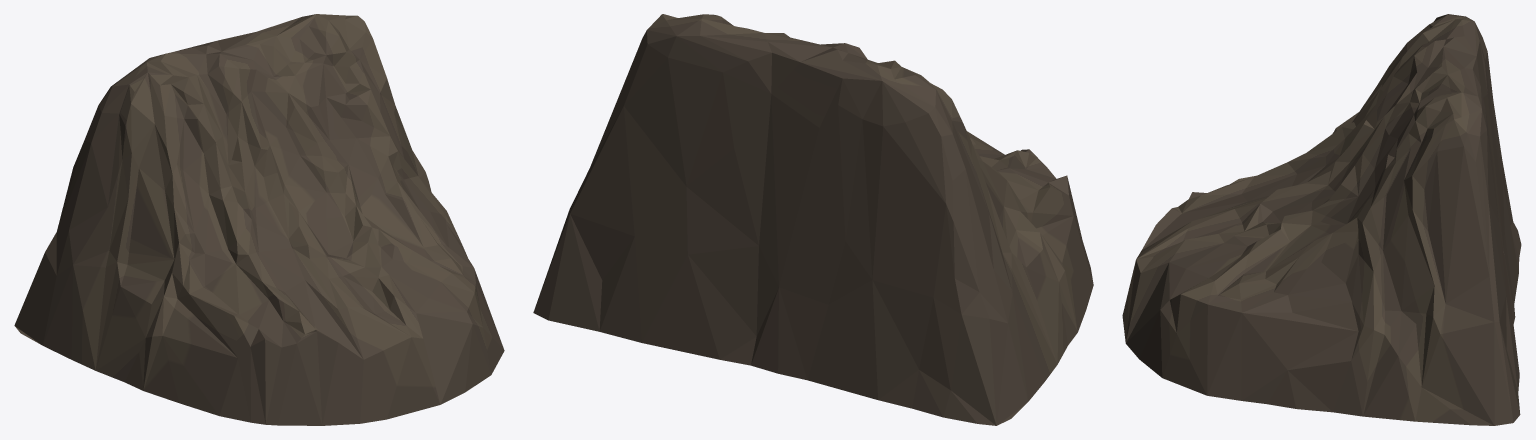
The model's file is crypt_landslide.gltf.
3 views of the same model, side by side, from view 1: azimuth 30°, elevation 25°; view 2: azimuth 150°, elevation 25°; view 3: azimuth 270°, elevation 25° (orthographic). The views are drawn at different scales.
Parts seen in each view (by area): view 1: crypt_landslide; view 2: crypt_landslide; view 3: crypt_landslide.
Part boxes in pixels (x1,y1,x2,y2): crypt_landslide: (14,14,504,425); crypt_landslide: (533,14,1093,425); crypt_landslide: (1122,14,1521,425).
Size of the model in its own units: 7.52 by 4.65 by 6.22.
Materials: 1 (1 with a texture image).
